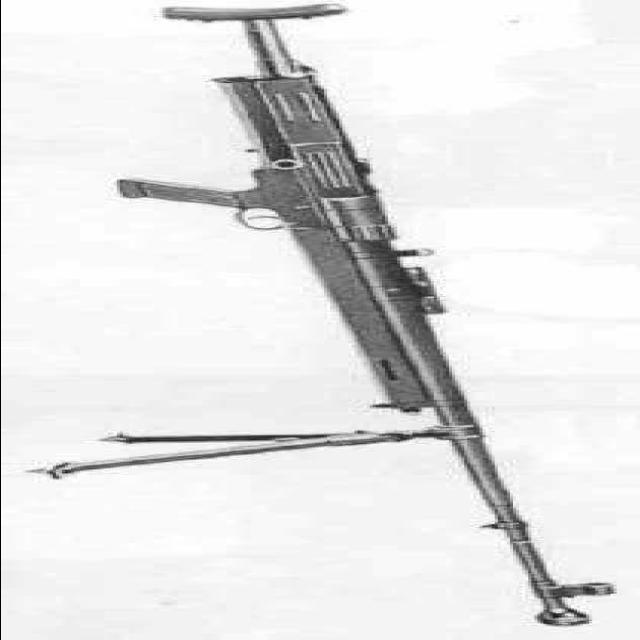heavyweapon: (74, 3, 632, 631)
